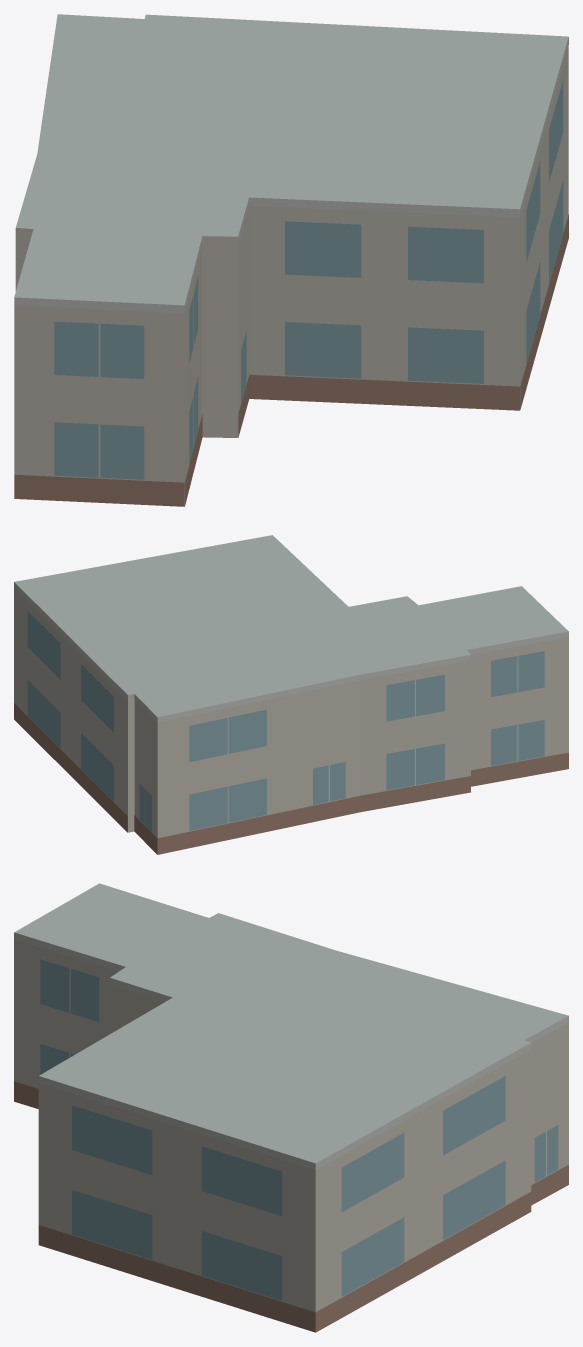
The model's file is survey-upis-33000547.glb.
3 renders of one model, top to bottom at view 1: azimuth 30°, elevation 25°; view 2: azimuth 150°, elevation 25°; view 3: azimuth 270°, elevation 25°, orthographic. The views are drawn at different scales.
Parts seen in each view (by area): view 1: survey-upis-33000547.tmp; view 2: survey-upis-33000547.tmp; view 3: survey-upis-33000547.tmp.
Boxes of the visible parts, x1=… form: survey-upis-33000547.tmp: x1=14, y1=14, x2=568, y2=506; survey-upis-33000547.tmp: x1=14, y1=535, x2=568, y2=854; survey-upis-33000547.tmp: x1=14, y1=883, x2=568, y2=1332.
Bounding box in the file's own units: 21.67 × 6.1 × 18.14.
